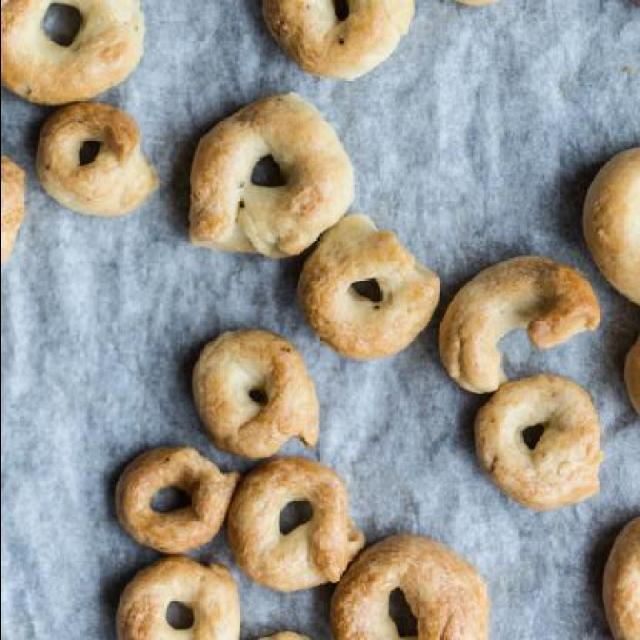Taralli: (10, 11, 624, 634)
